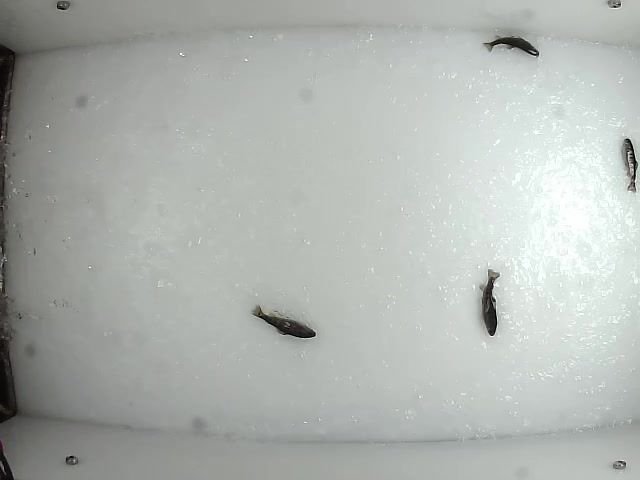fish: (248, 304, 319, 341), (474, 267, 502, 337), (480, 33, 540, 57), (618, 137, 640, 195)
